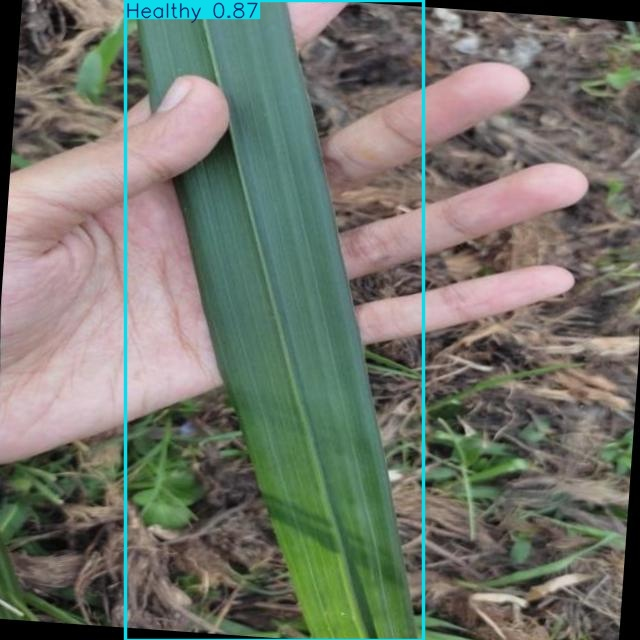Healthy: (125, 0, 423, 640)
